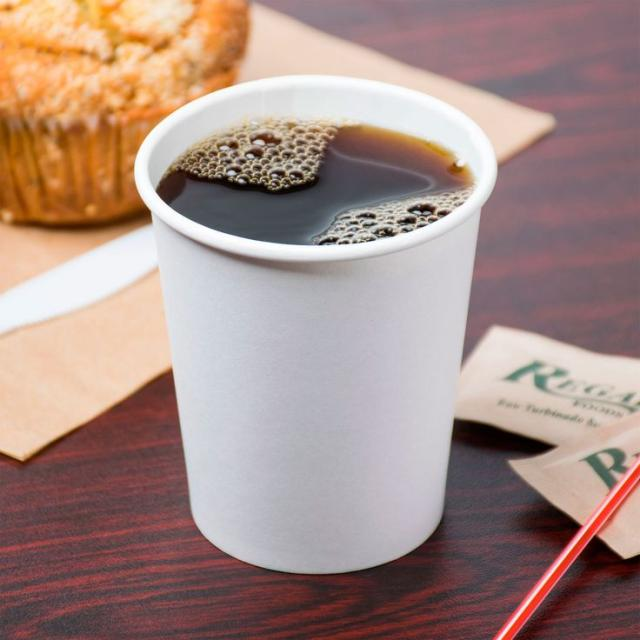paper cup: (134, 73, 498, 573)
